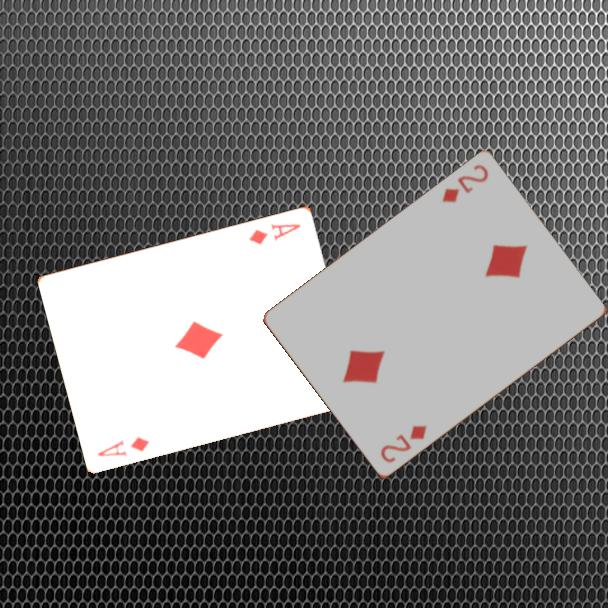d01: (245, 219, 304, 247), (94, 432, 152, 460)
d02: (377, 422, 430, 467), (438, 161, 491, 206)
